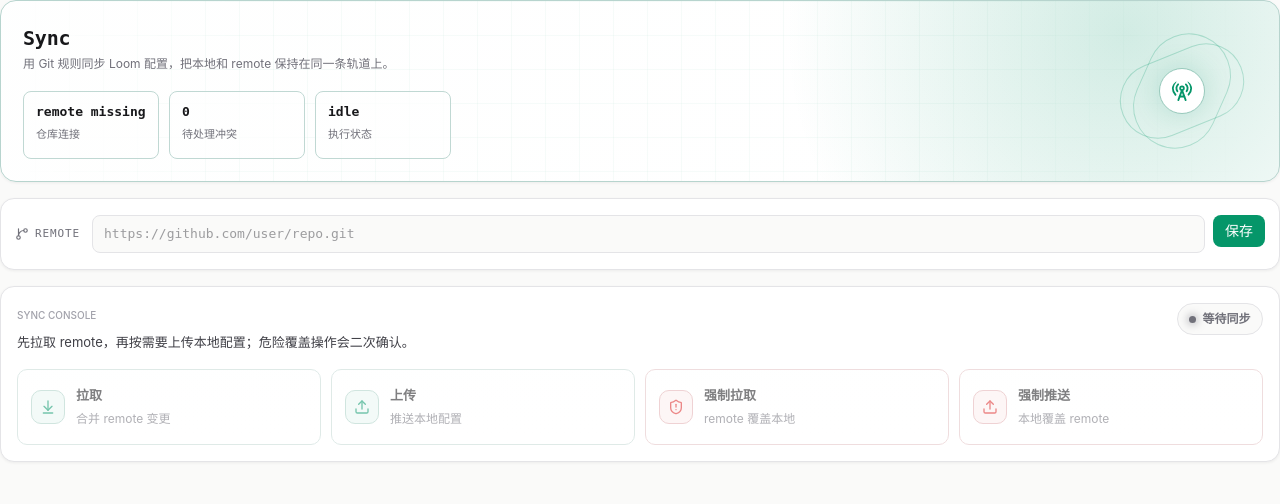
it: Sync force operations › shows an empty remote URL error next to the input
Click the button with aria-label "保存 remote" at (1239, 231), box [1213,215,1265,247]
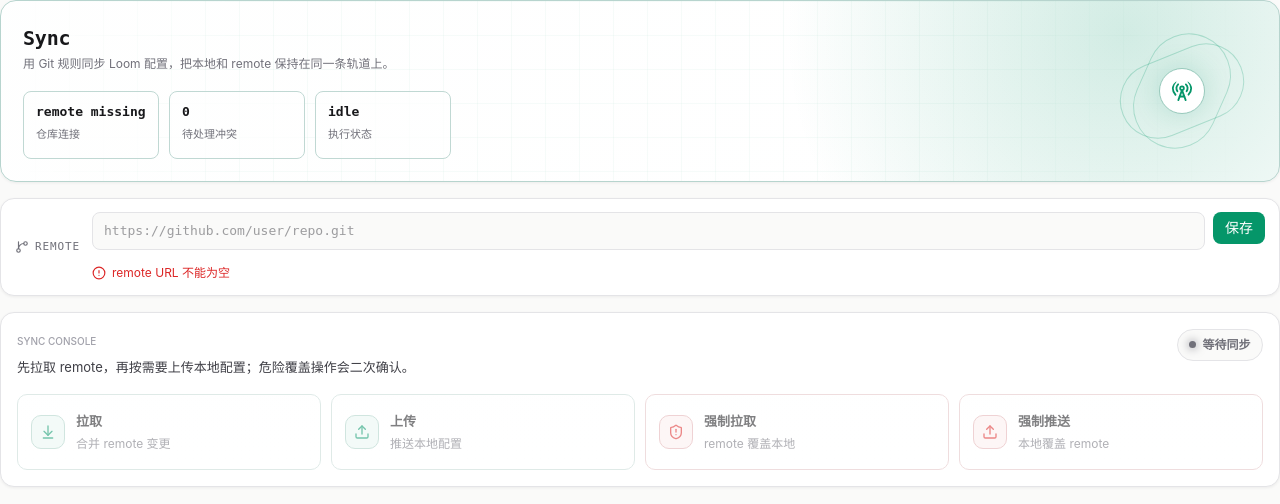
Expected: the text "remote URL 不能为空" is shown, [112,264,230,282]
